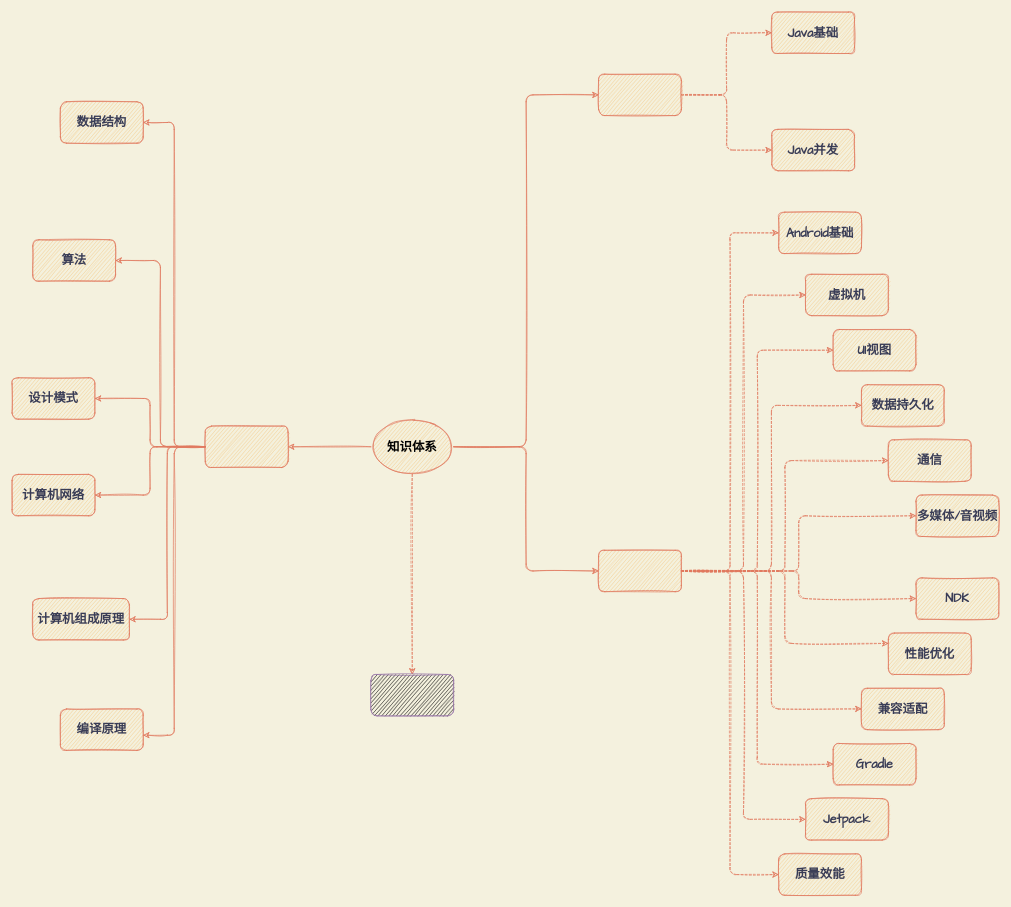
Image size: 1011x907. Some labels were removed from this diagram. The shapes that lost their labels are listed below. From the top down, each one's centre as x and y in pixels, then its label:
[639,94]: Java
[246,446]: 核心基础
[639,571]: Android
[412,695]: 其他领域
